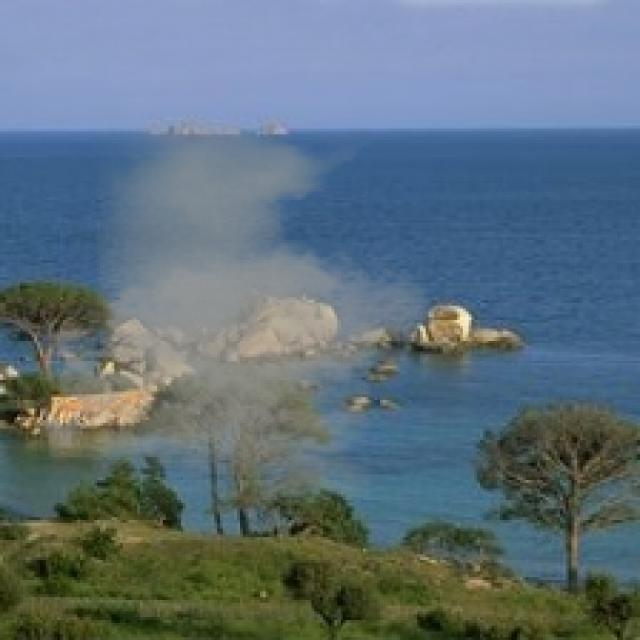smoke: (23, 117, 446, 500)
